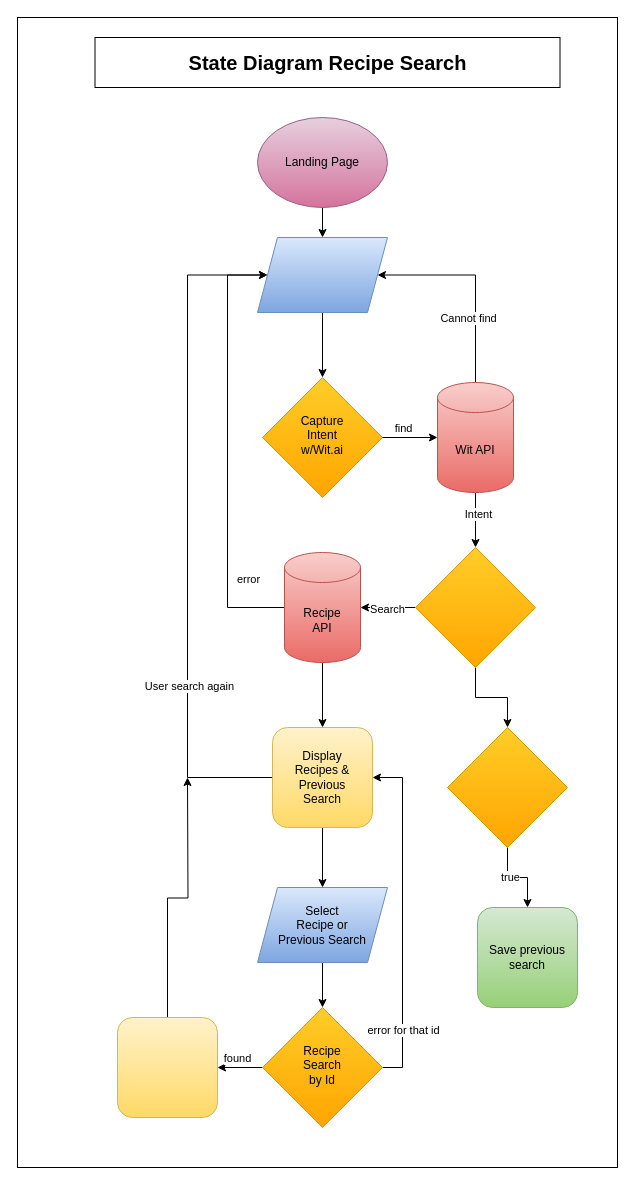
This 635x1185 diagram has some shape labels left out. The centre of each missing label's shape, as x and y in pixels:
Display Selected Recipe: the point at 167,1067
Find Recipe: Text/Audio: the point at 322,274
If there was a previous search: the point at 507,787
Recipes Search: the point at 475,607
